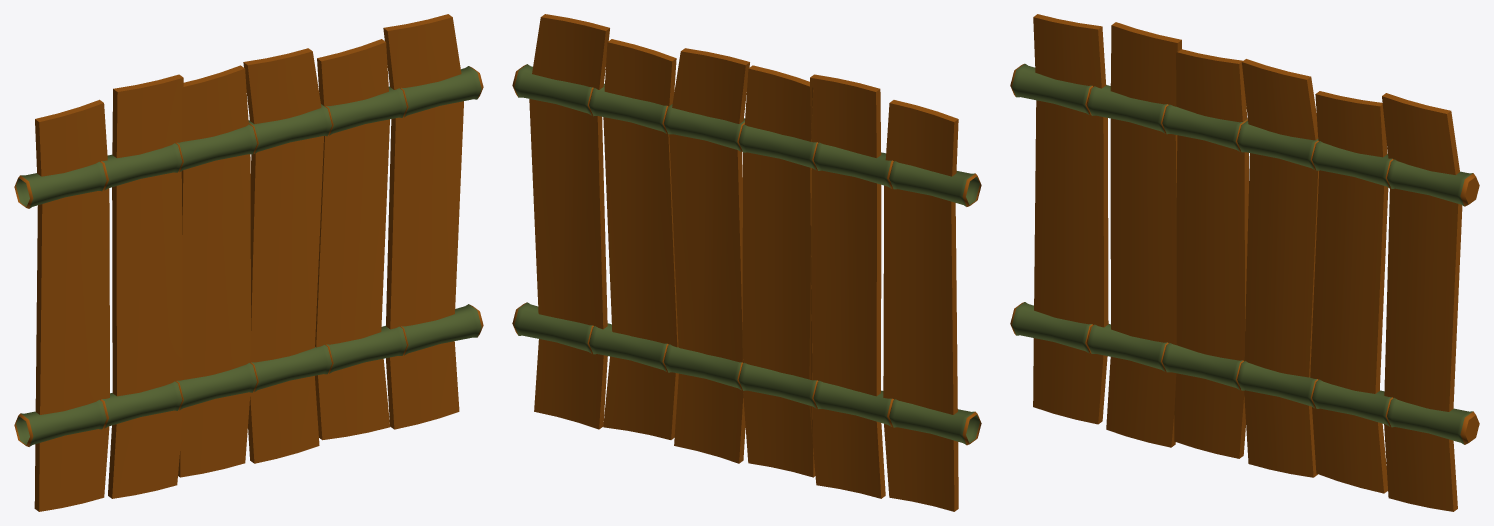
File: Jungle_Wall_01.fbx
The picture shows the model from 3 angles, left to right: view 1: azimuth 30°, elevation 25°; view 2: azimuth 150°, elevation 25°; view 3: azimuth 330°, elevation 25°; orthographic projection.
Parts seen in each view (by area): view 1: Jungle_Wall_01; view 2: Jungle_Wall_01; view 3: Jungle_Wall_01.
Part boxes in pixels (bbox=[...]): Jungle_Wall_01: bbox=[14, 14, 483, 511]; Jungle_Wall_01: bbox=[512, 14, 981, 511]; Jungle_Wall_01: bbox=[1010, 14, 1479, 511].
Size of the model in its own units: 5.99 by 5.14 by 0.4004.
